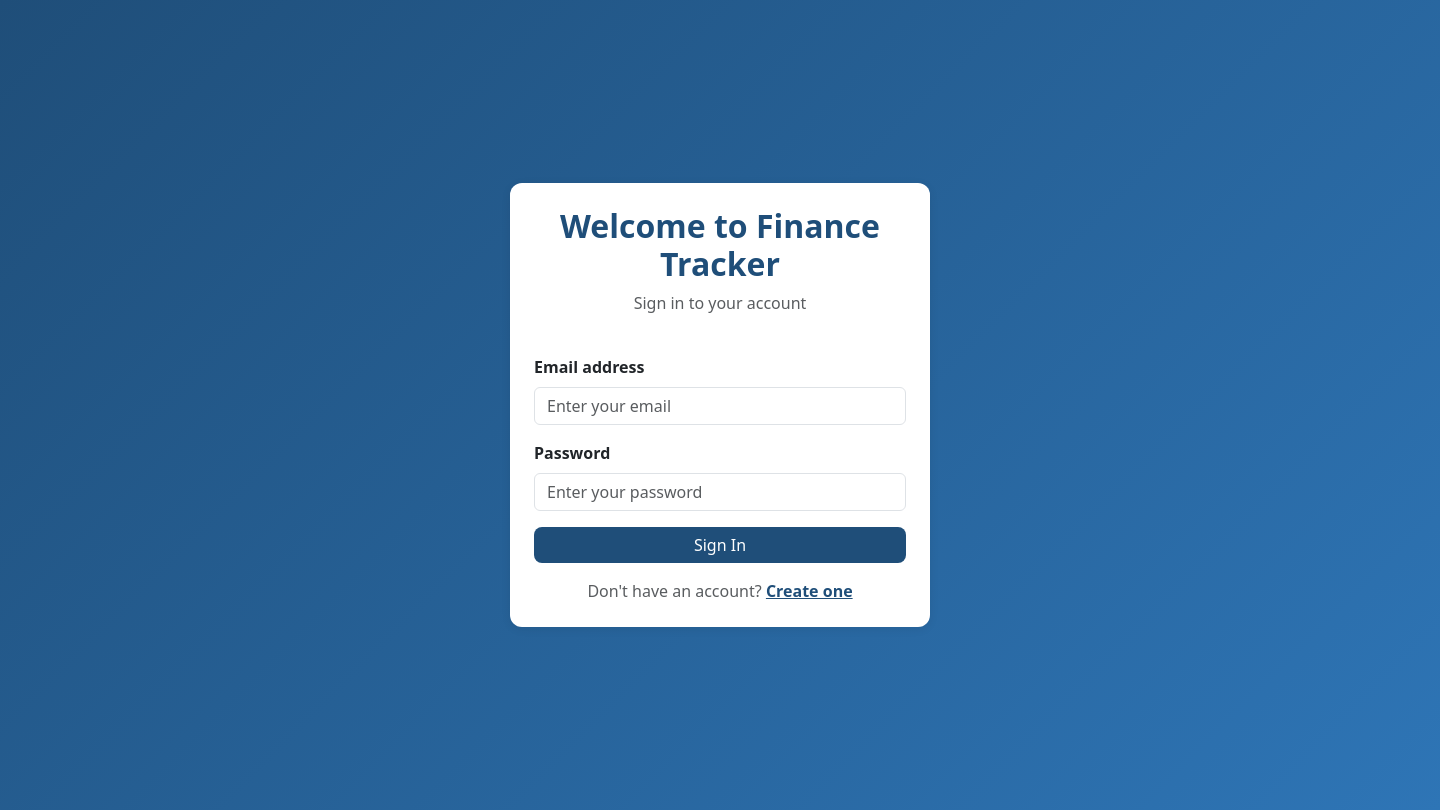
Test case: Login Component › UT02 - Shows loading state when form is submitted
The image size is (1440, 810).
In the field with placeholder "Enter your email": (720, 406) [534,387,906,425], type "gourav@gmail.com"
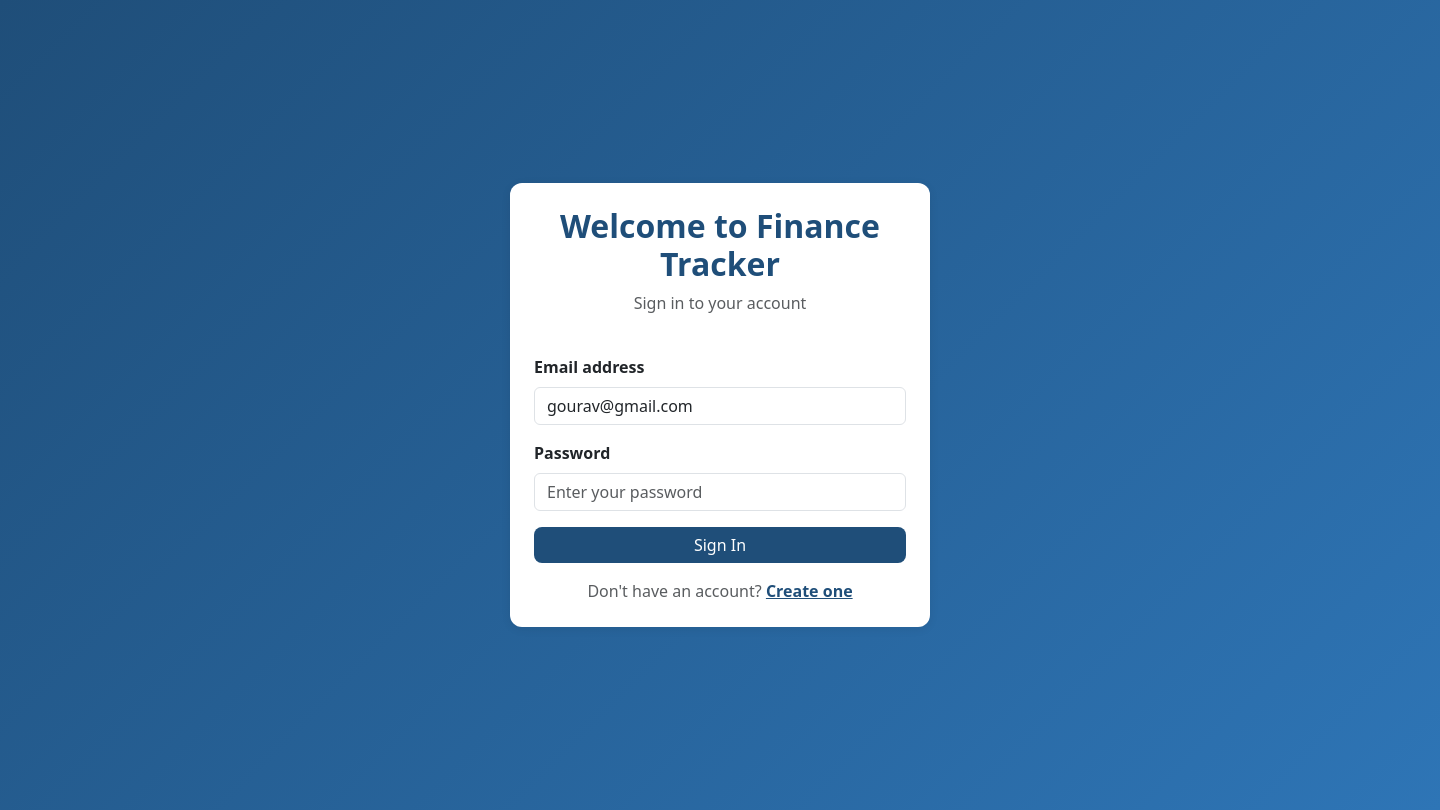
In the password field with placeholder "Enter your password": (720, 492) [534,473,906,511], type "password123"
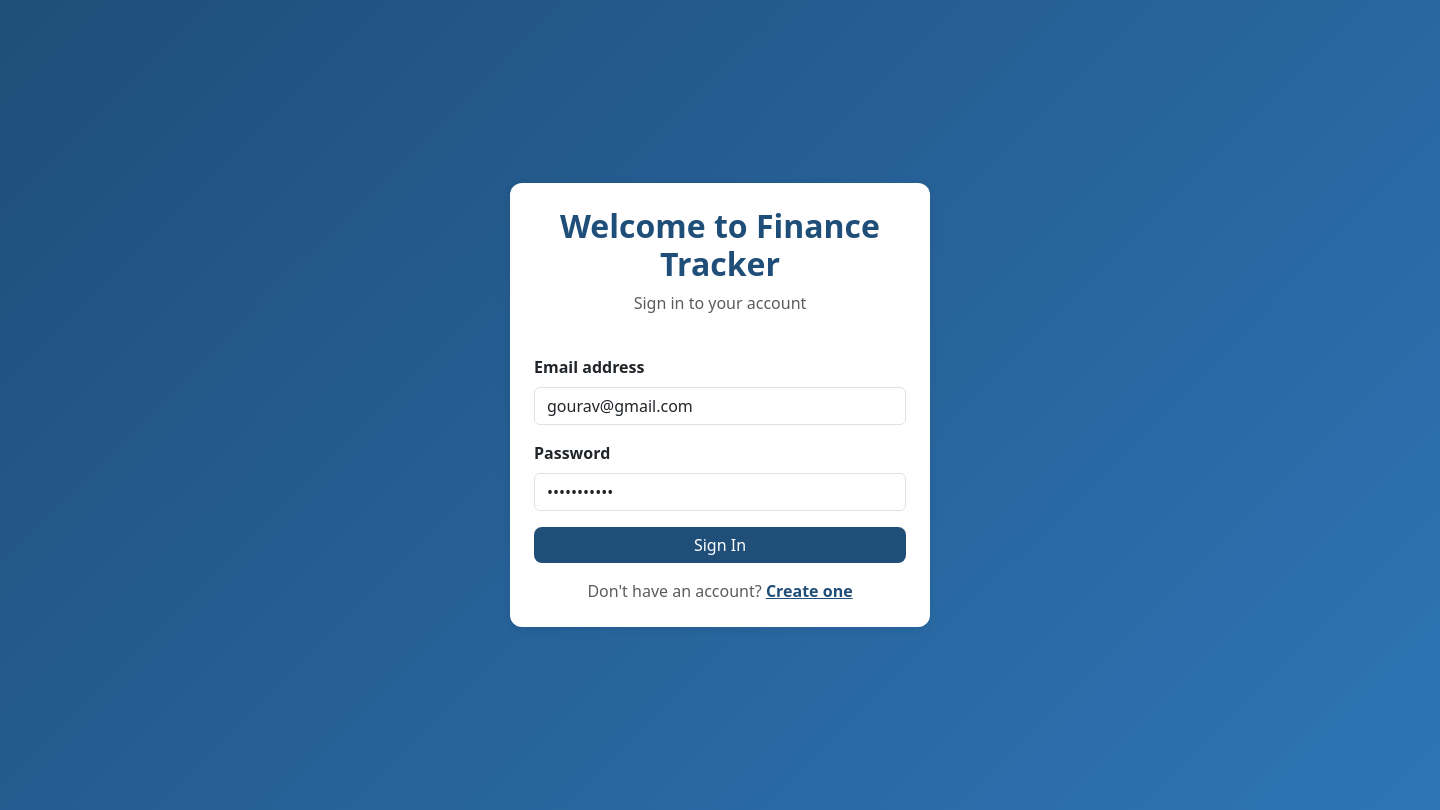
Click the button "Sign In": click(720, 545) [534,527,906,563]
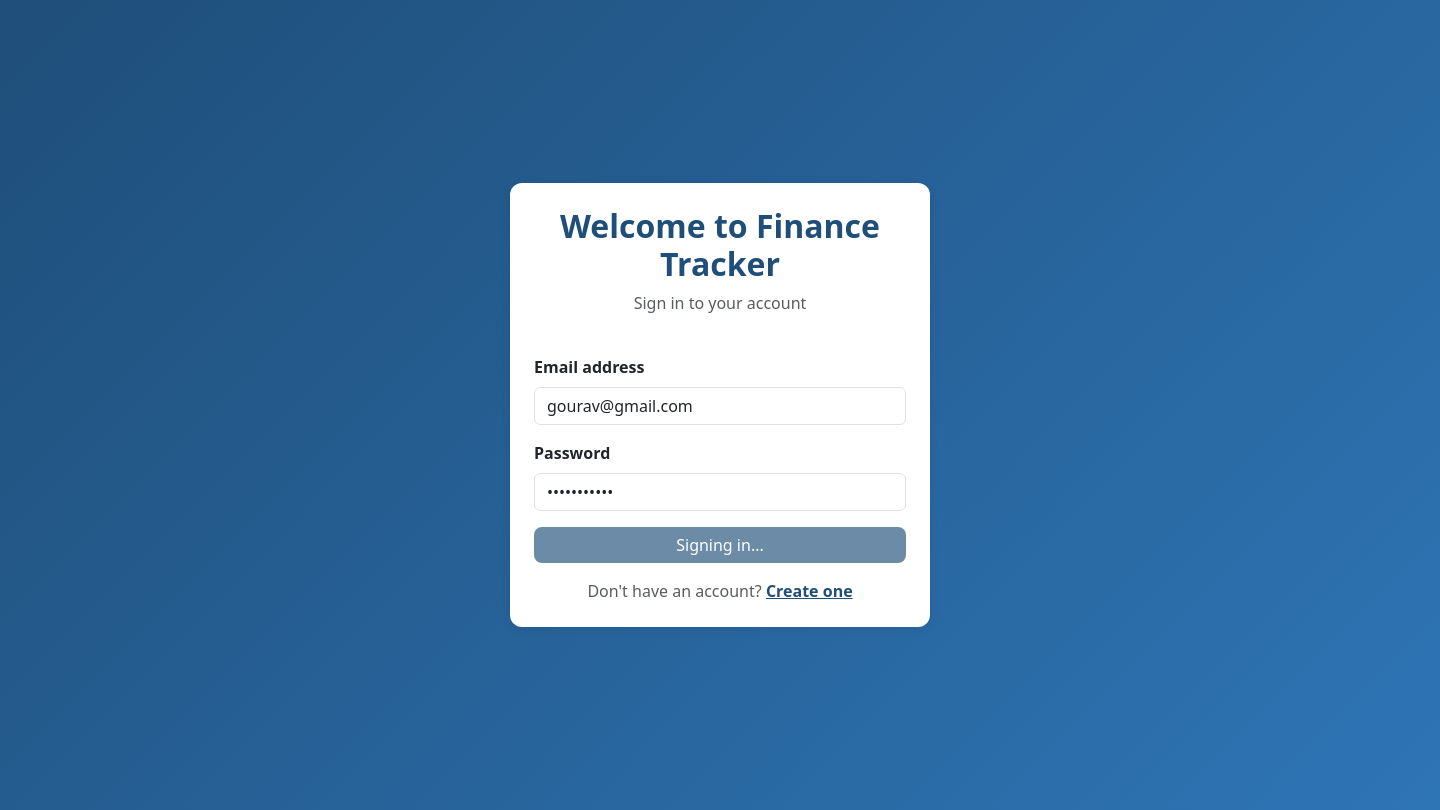
Now the button "Signing in..." is shown, box [534,527,906,563]
